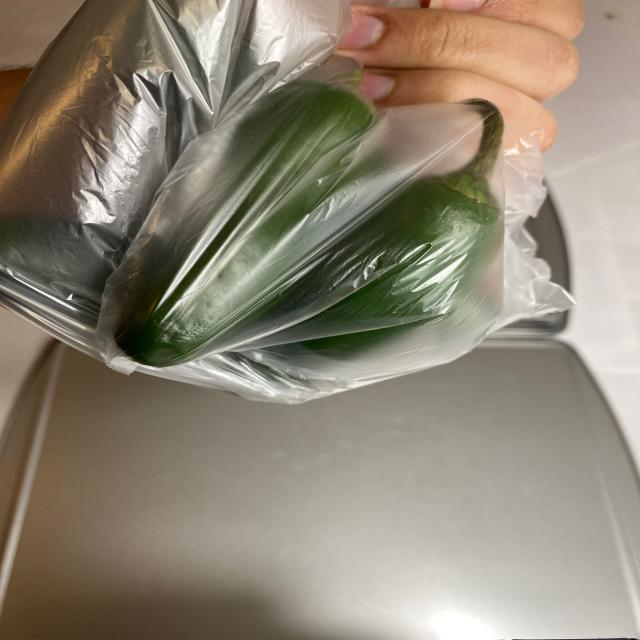chilli: (6, 38, 596, 384)
